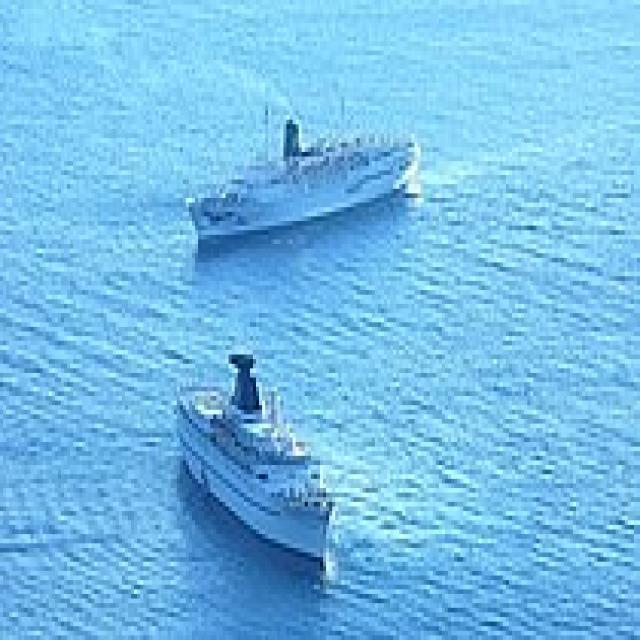Ship: (169, 337, 352, 567), (181, 98, 434, 255)
